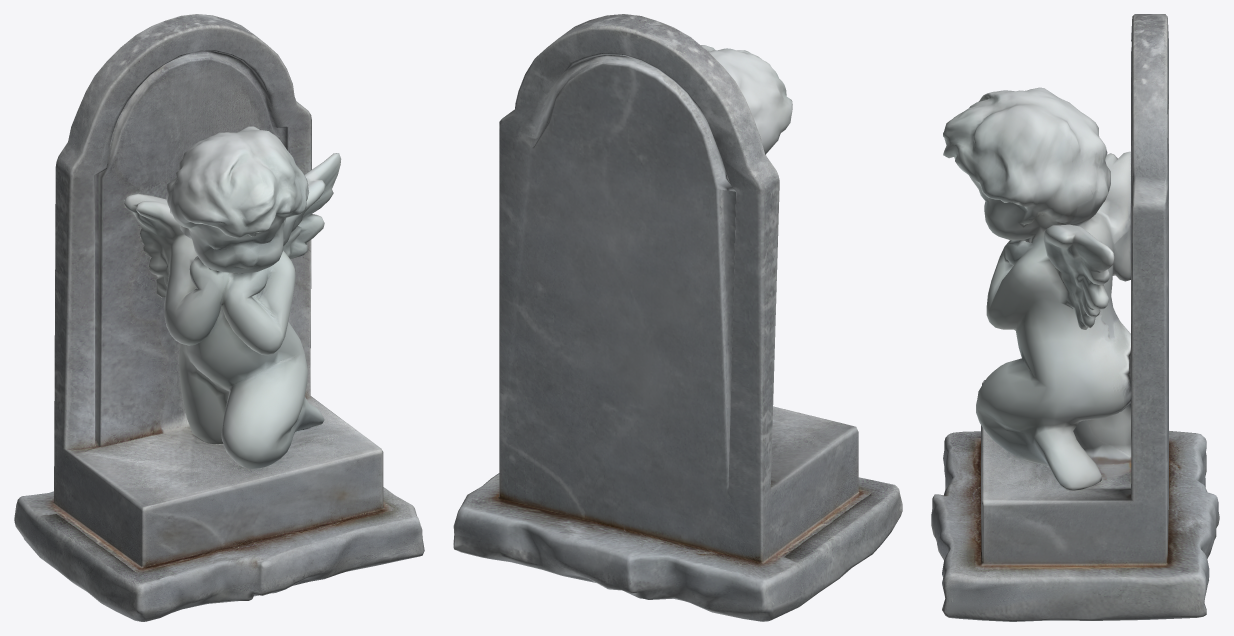
Rendered from grave_cherub_stone.glb.
The picture shows the model from 3 angles, left to right: view 1: azimuth 30°, elevation 25°; view 2: azimuth 150°, elevation 25°; view 3: azimuth 270°, elevation 25°; orthographic projection. The views are drawn at different scales.
Size of the model in its own units: 1.2 by 1.91 by 0.955.
Materials: 1 (1 with a texture image).
